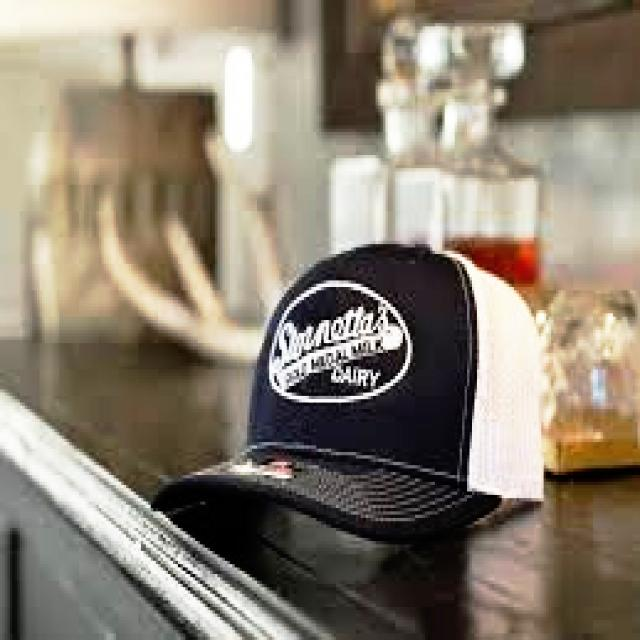TOPI: (148, 228, 546, 541)
